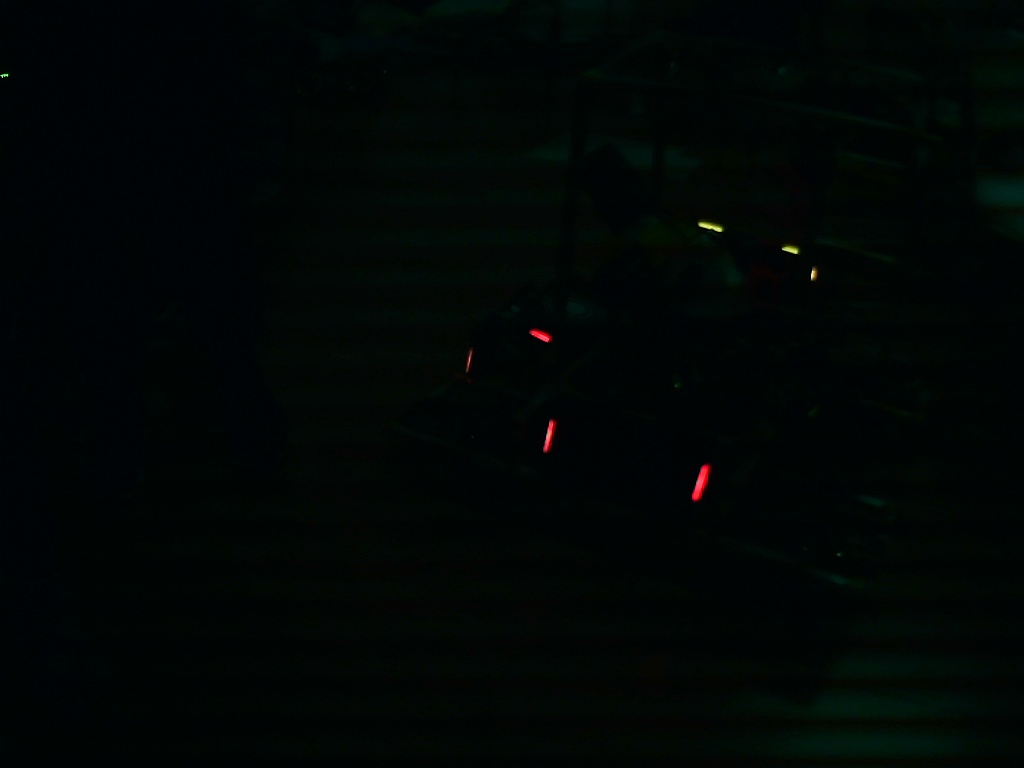lamp: (690, 459, 714, 505), (538, 418, 560, 458)
